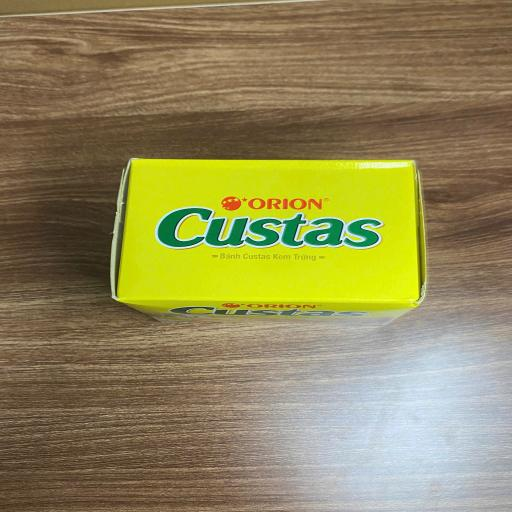custas: (110, 158, 427, 325)
